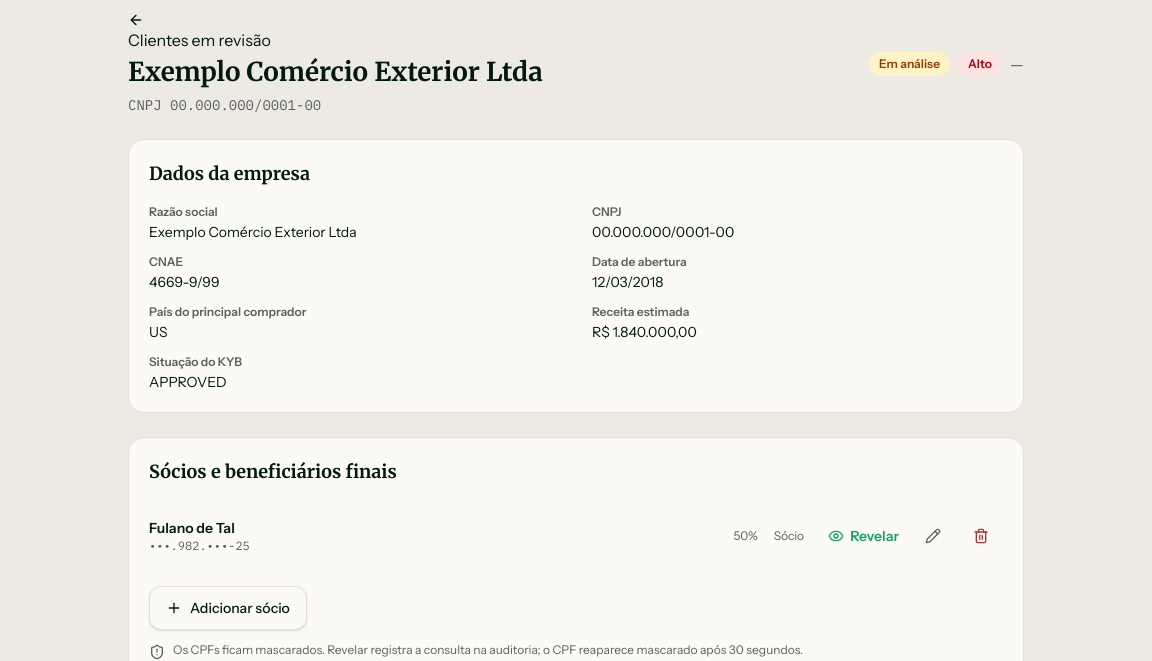
ClientReview — CPF reveal (audited) › shows a clear message when rate-limited (429)
Check: the text "•••.982.•••-25" is shown, box top-left (149, 538), bottom-right (250, 553)
What coordinates should you click on to do the following:
click the button "Revelar"
I would click on:
 (864, 536)
Its box is top-left (820, 514), bottom-right (907, 558).
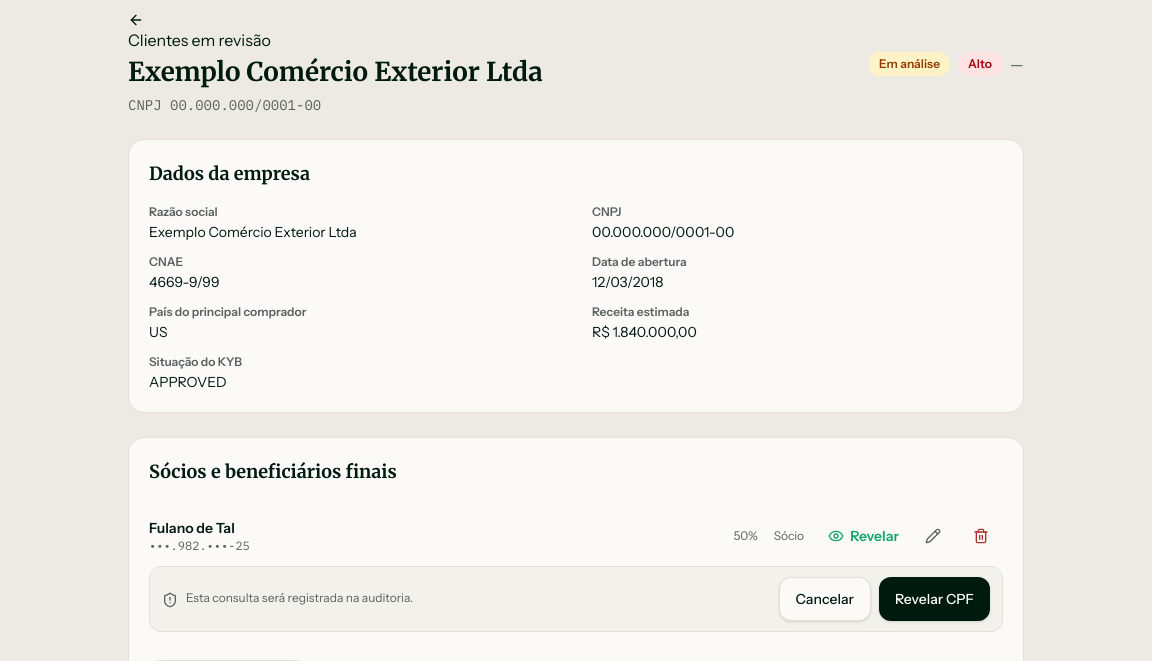
What coordinates should you click on to do the following:
click the button "Revelar CPF"
I would click on:
 (934, 599)
Its box is top-left (879, 577), bottom-right (990, 621).
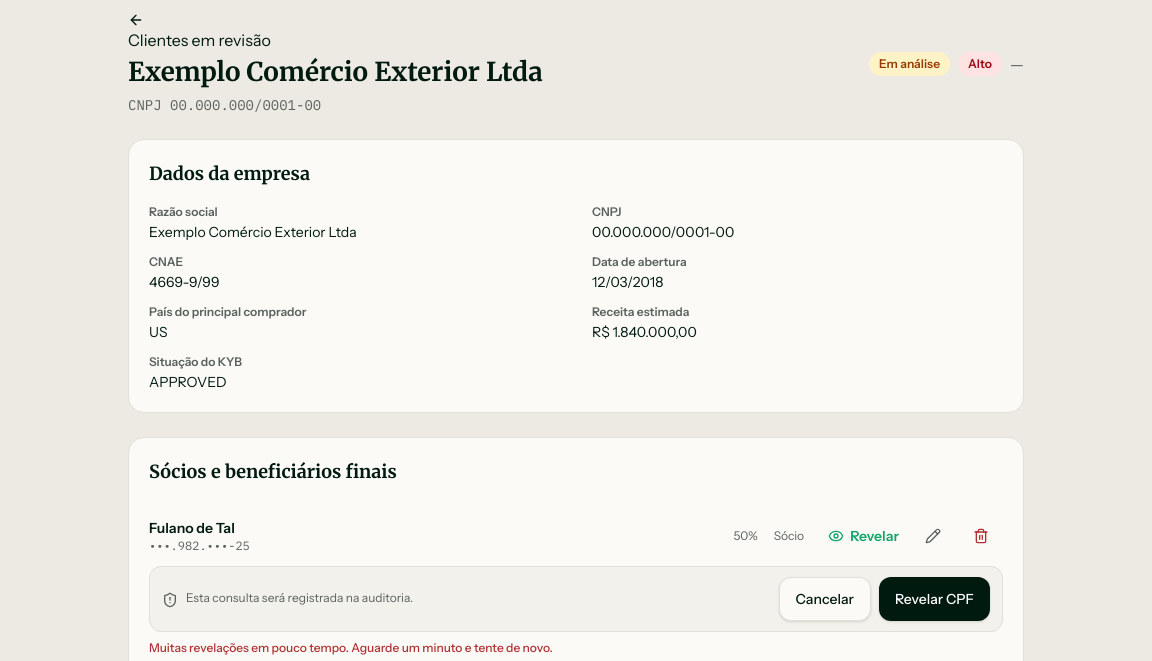
Check: the text "Muitas revelações em pouco tempo. Aguarde um minuto e tente de novo." is shown, box top-left (149, 640), bottom-right (553, 655)
